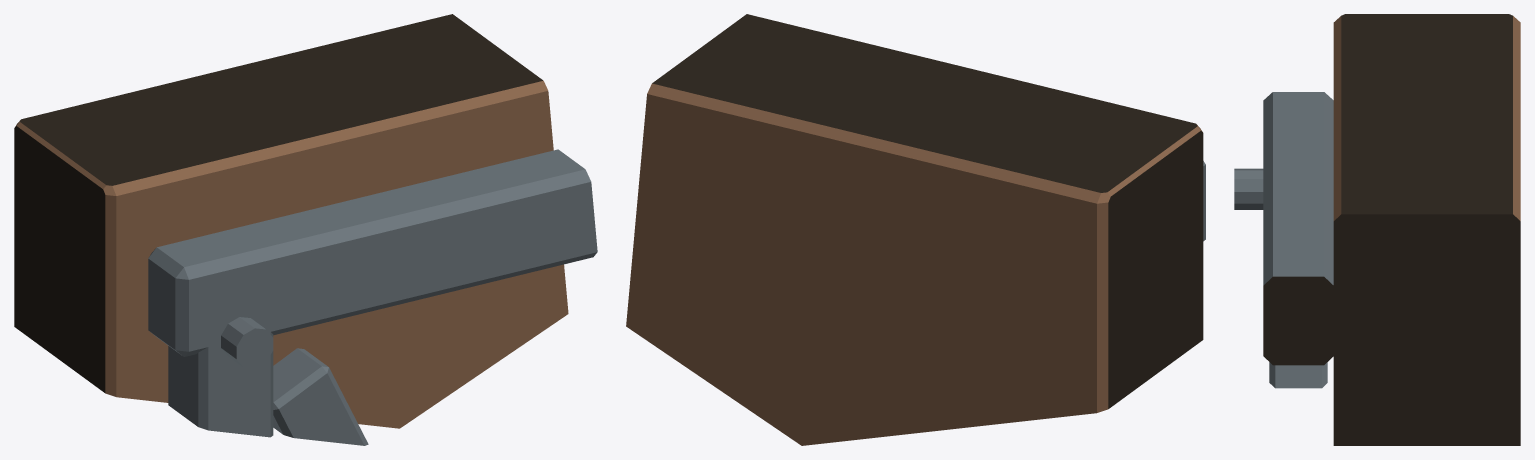
Rendered from SM_DoorShard_02_37.fbx.
The picture shows the model from 3 angles, left to right: view 1: azimuth 30°, elevation 25°; view 2: azimuth 150°, elevation 25°; view 3: azimuth 270°, elevation 25°; orthographic projection. The views are drawn at different scales.
Visible parts, largest first — view 1: SM_DoorShard_02_37; view 2: SM_DoorShard_02_37; view 3: SM_DoorShard_02_37.
Part boxes in pixels (x1=…): SM_DoorShard_02_37: x1=14, y1=14, x2=597, y2=445; SM_DoorShard_02_37: x1=626, y1=14, x2=1205, y2=445; SM_DoorShard_02_37: x1=1234, y1=14, x2=1520, y2=445.
Bounding box in the file's own units: 42.77 × 24.5 × 27.51.
